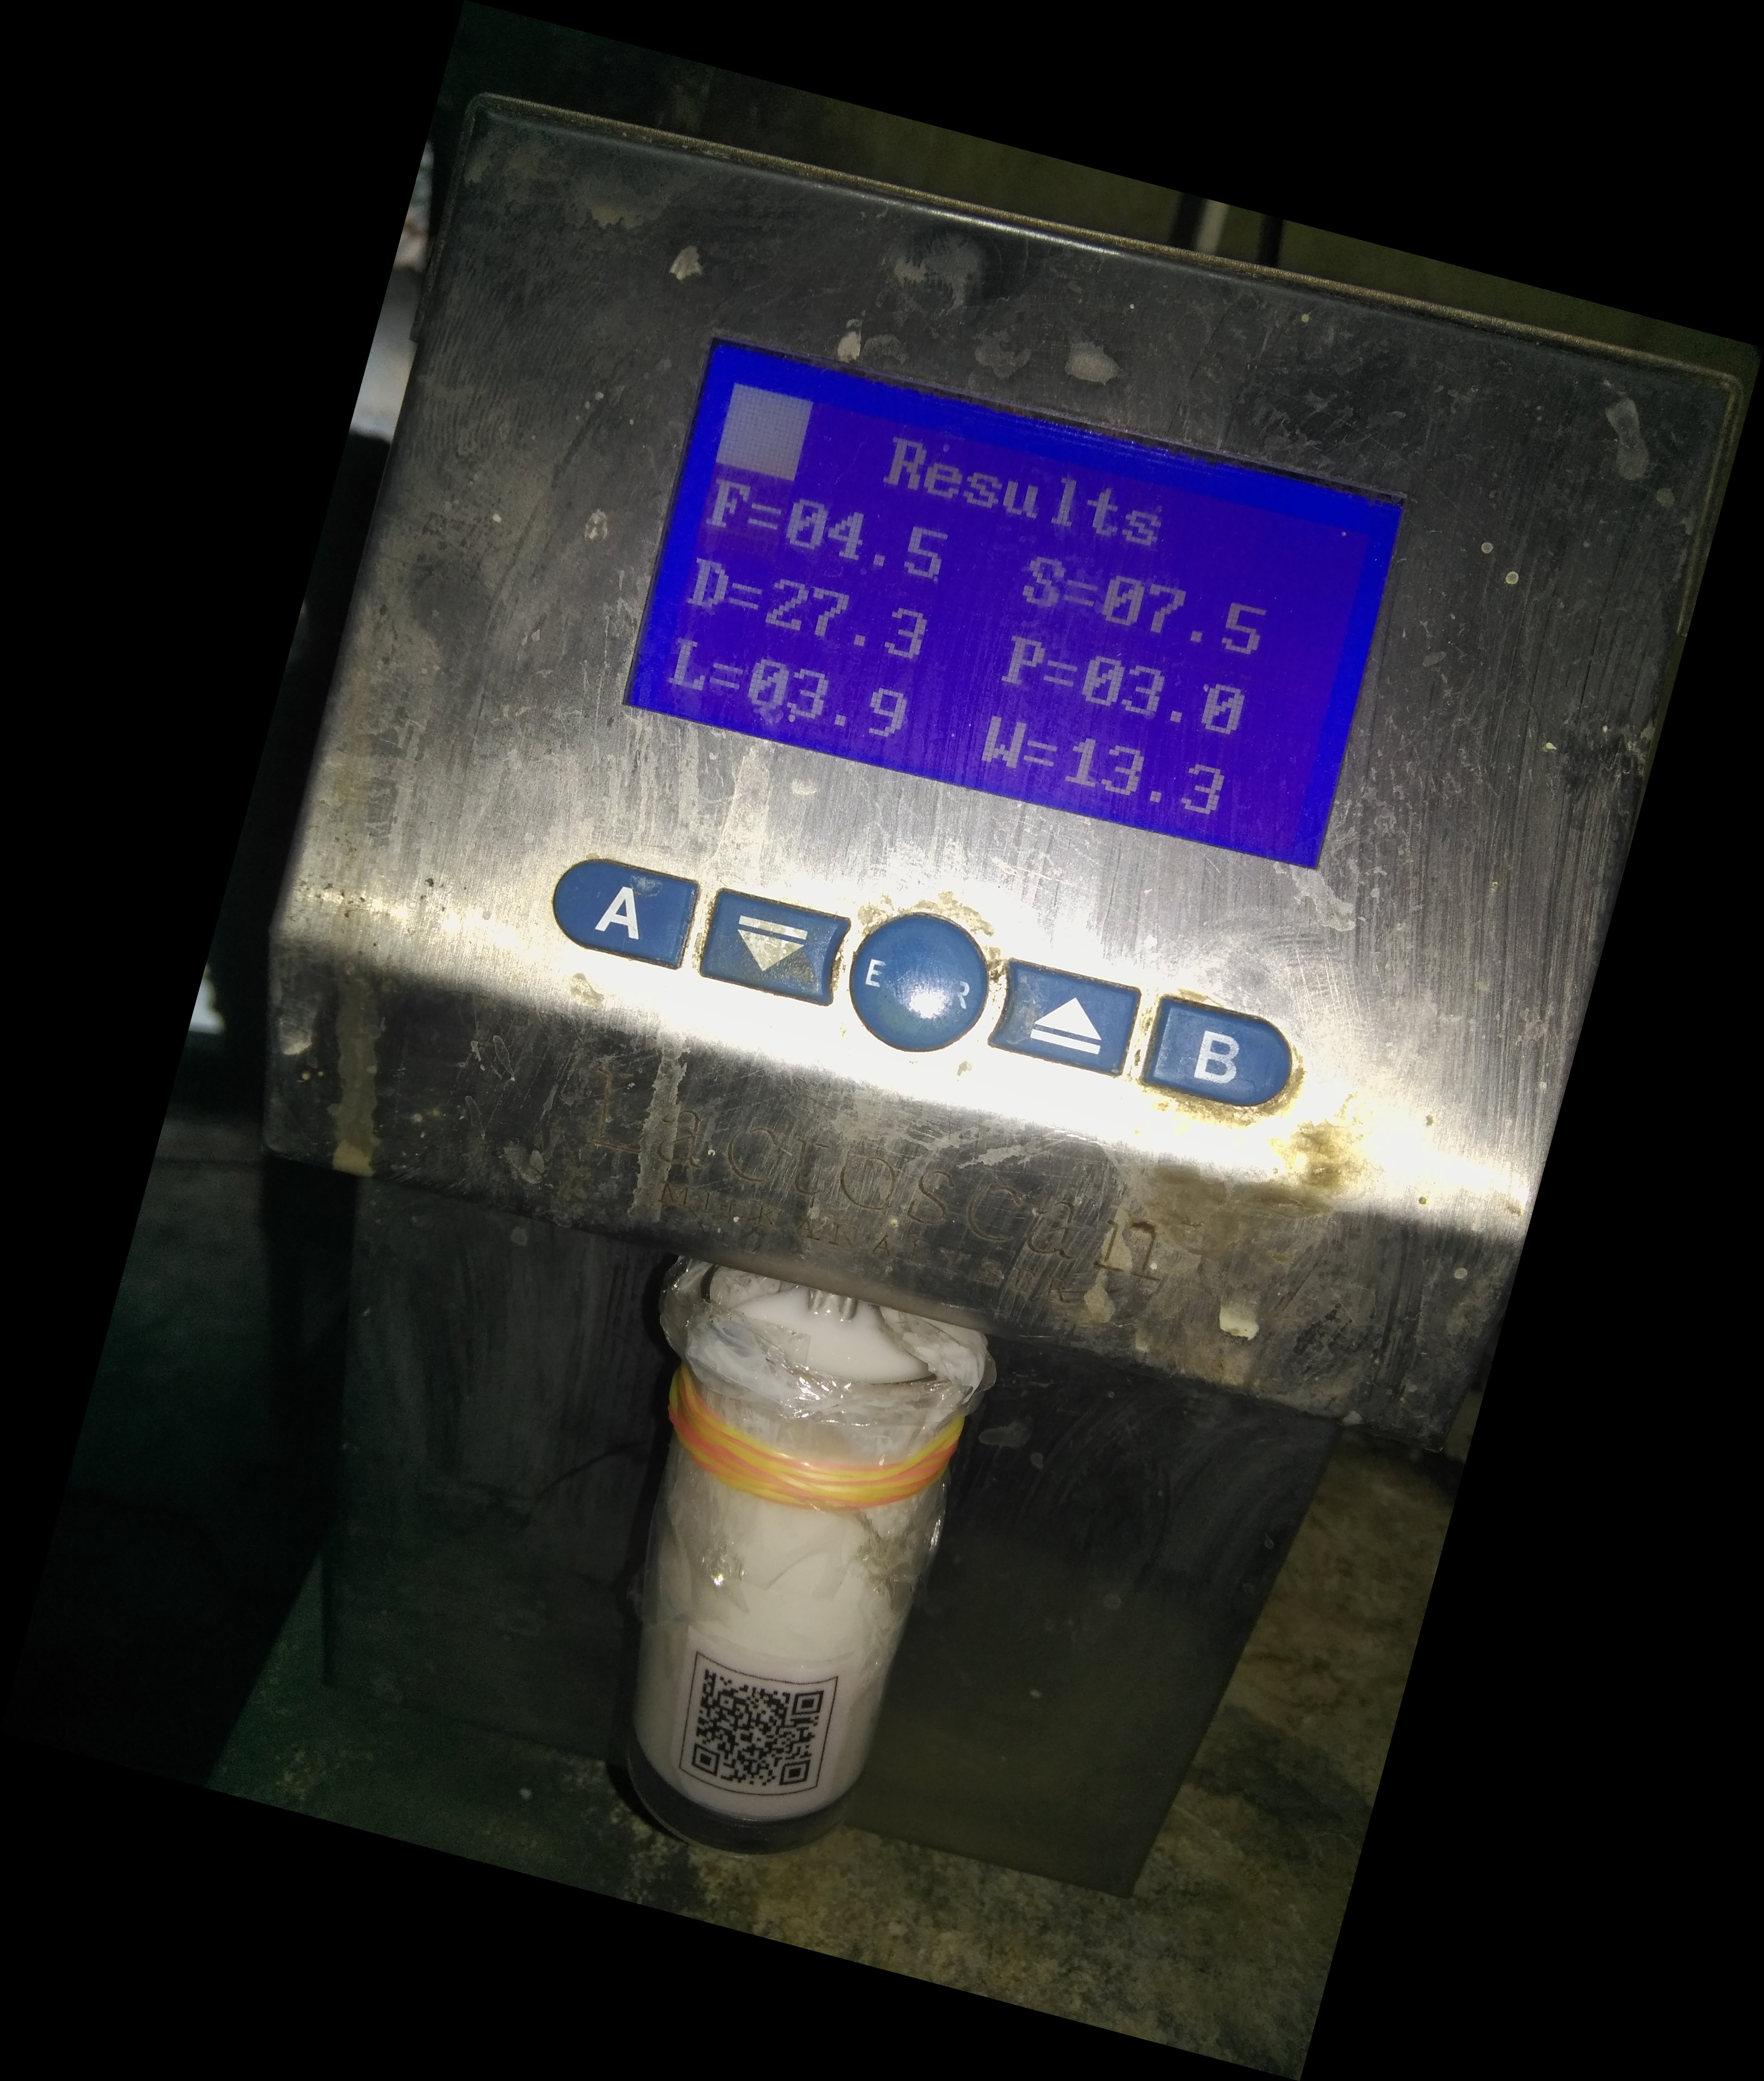lcd: (611, 317, 1398, 910)
qr: (668, 1657, 847, 1834)
